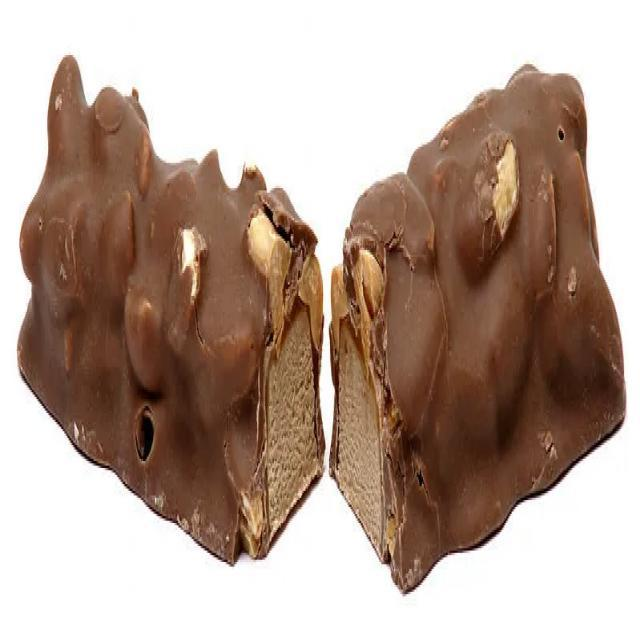Chocolate bar packaged: (15, 48, 328, 568), (328, 62, 628, 596)
